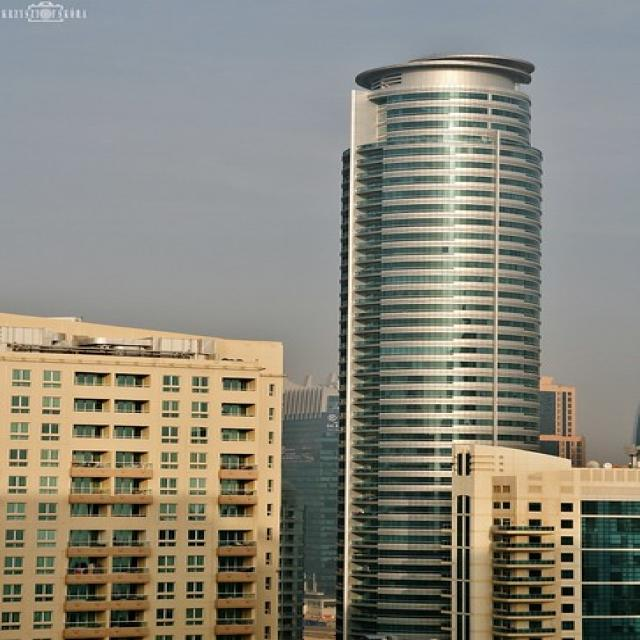Normal_building: (330, 48, 557, 640), (446, 436, 640, 640)
